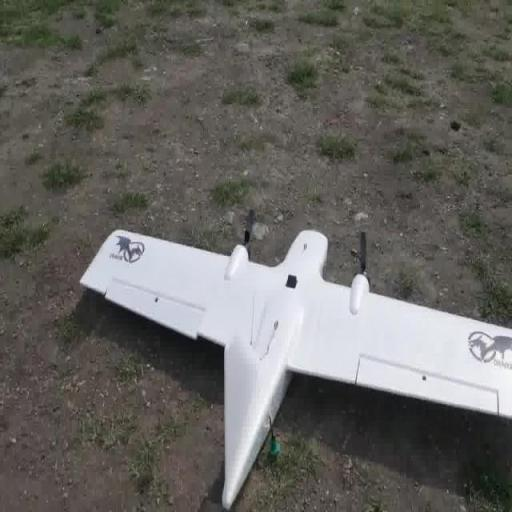uav: (77, 202, 512, 511)
